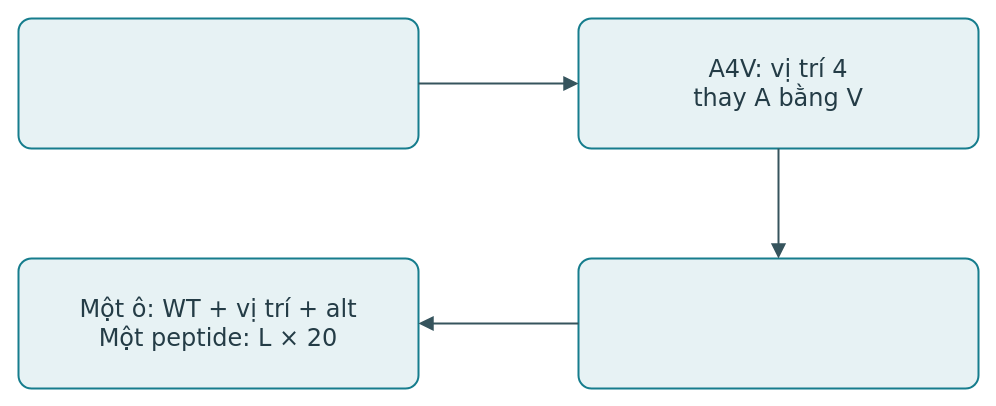
Image size: 996x406. Some labels were removed from this diagram. The box of each missing label's shape, as (x1, y1, x2, y2) in pixels:
Mutant minh họa M A L V K L A: (577, 257, 979, 389)
WT minh họa M A L A K L A: (17, 17, 419, 149)
